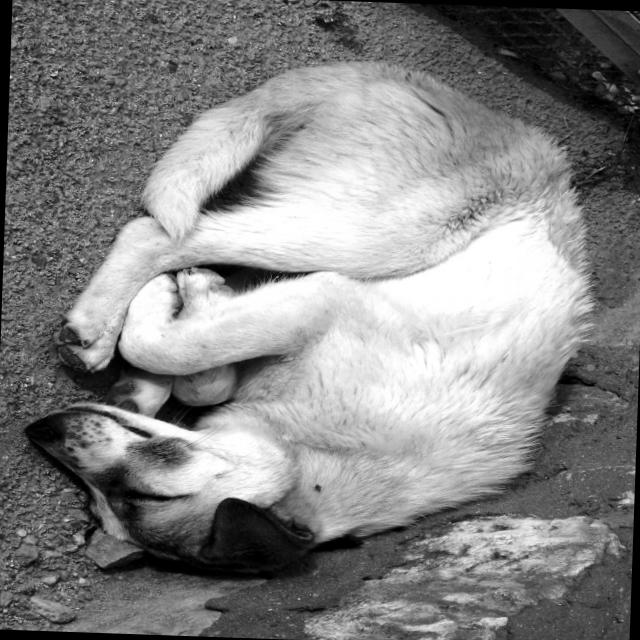laying down: (13, 42, 603, 598)
